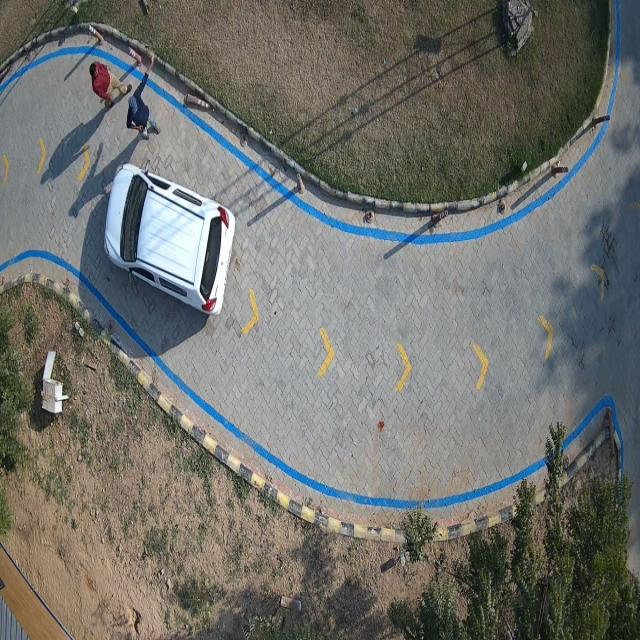car: (104, 164, 235, 314)
